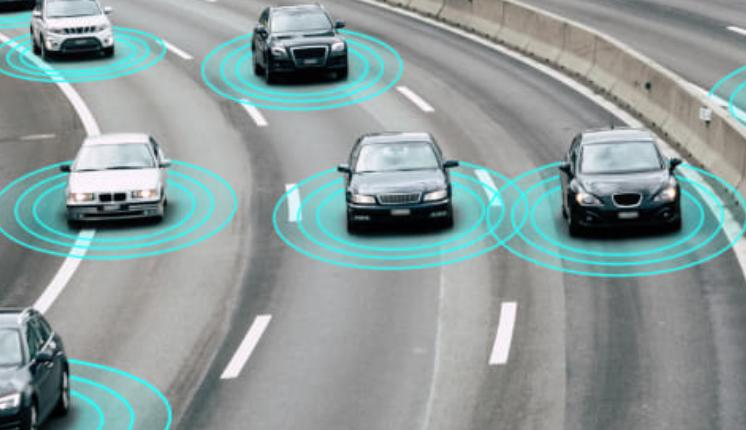car: (335, 120, 464, 244), (557, 123, 685, 235), (61, 130, 173, 223), (0, 302, 79, 427), (246, 1, 355, 76), (27, 0, 120, 57)
